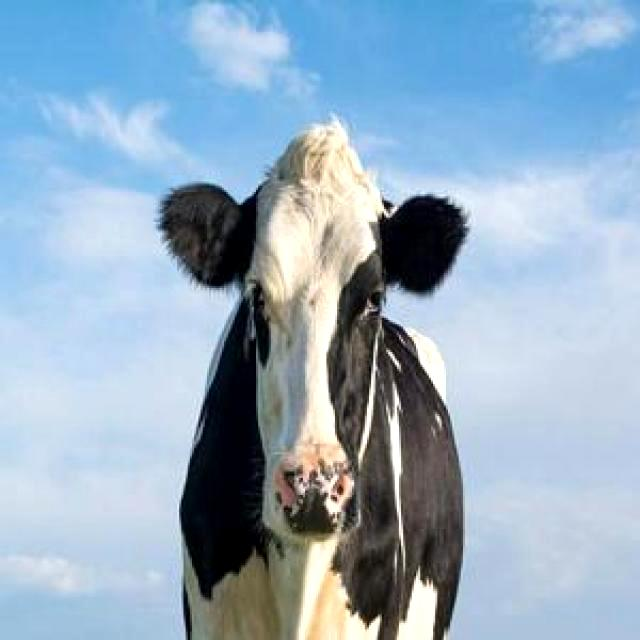COW: (162, 121, 465, 640)
